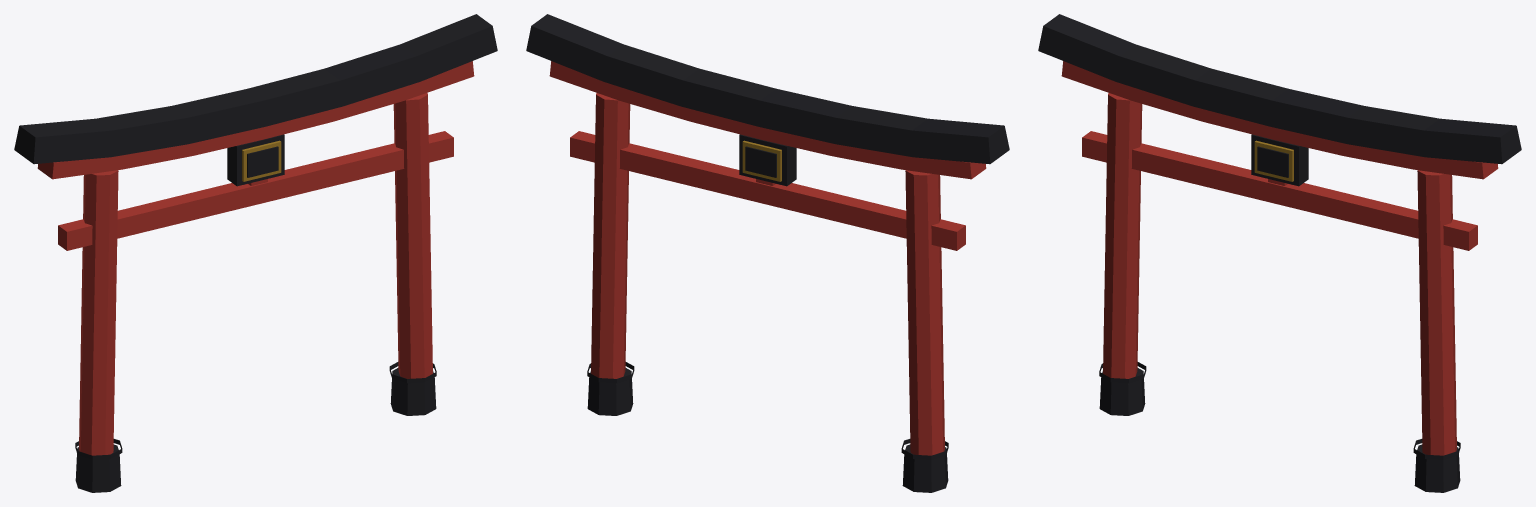
File: torii_red.fbx
3 views of the same model, side by side, from view 1: azimuth 30°, elevation 25°; view 2: azimuth 150°, elevation 25°; view 3: azimuth 330°, elevation 25° (orthographic).
Parts seen in each view (by area): view 1: torii_red; view 2: torii_red; view 3: torii_red.
Part boxes in pixels (x1,y1,x2,y2): torii_red: [14, 14, 497, 492]; torii_red: [526, 14, 1009, 492]; torii_red: [1038, 14, 1521, 492].
Bounding box in the file's own units: 6.6 × 5.02 × 0.6.
